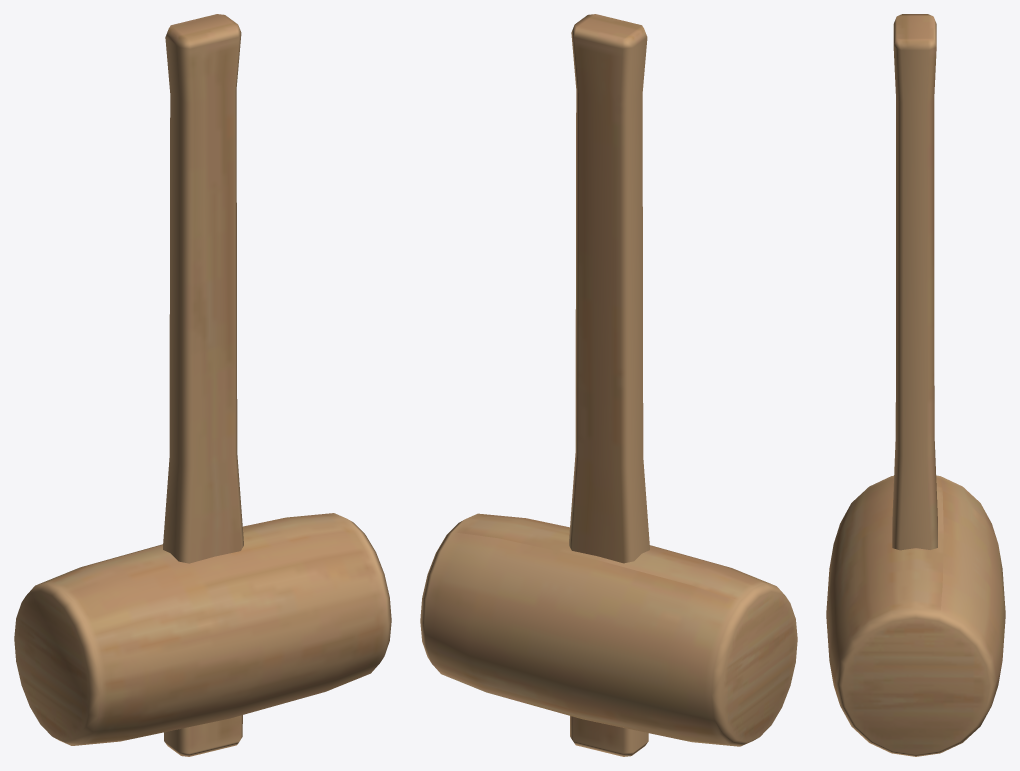
The model's file is ToolFence.glb.
3 views of the same model, side by side, from view 1: azimuth 30°, elevation 25°; view 2: azimuth 150°, elevation 25°; view 3: azimuth 270°, elevation 25° (orthographic). The views are drawn at different scales.
Parts seen in each view (by area): view 1: Handle__mTool; view 2: Handle__mTool; view 3: Handle__mTool.
Boxes of the visible parts, x1,y1,x2,y2 form: Handle__mTool: [14, 14, 391, 756]; Handle__mTool: [420, 14, 797, 756]; Handle__mTool: [826, 14, 1005, 756].
Size of the model in its own units: 3.04 by 6.9 by 1.61.
1 material, 1 textured.
